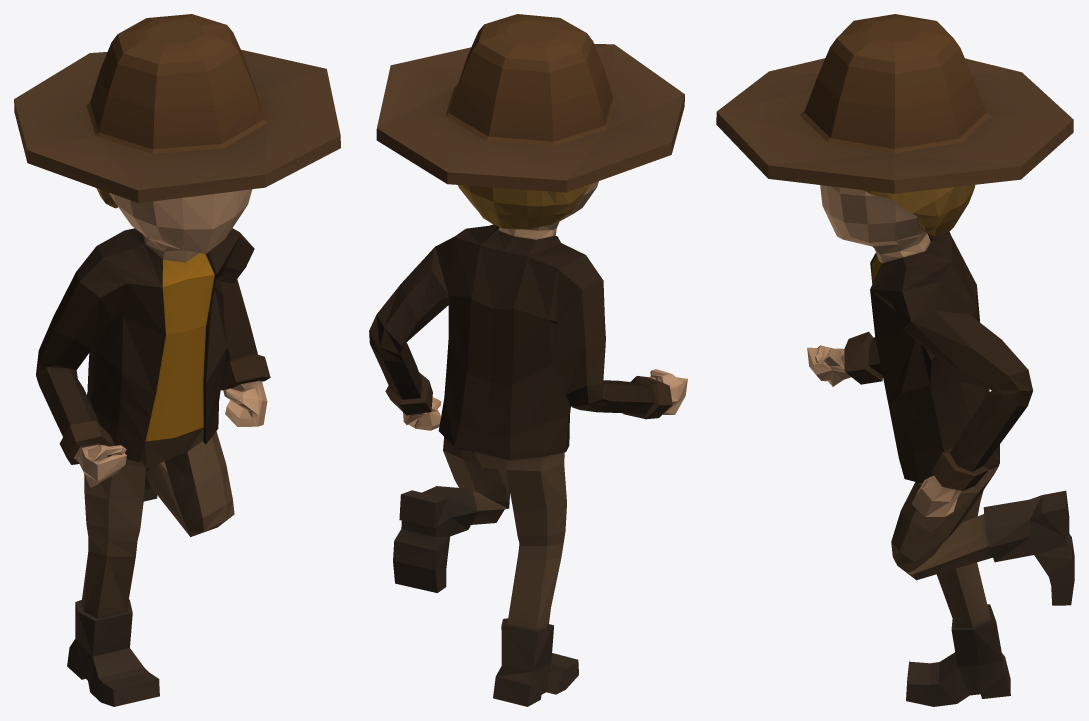
File: run 05.obj
The picture shows the model from 3 angles, left to right: view 1: azimuth 30°, elevation 25°; view 2: azimuth 150°, elevation 25°; view 3: azimuth 270°, elevation 25°; orthographic projection. The views are drawn at different scales.
Parts seen in each view (by area): view 1: Character_Cube; view 2: Character_Cube; view 3: Character_Cube.
Boxes of the visible parts, <box> form: Character_Cube: <box>14,14,340,706</box>; Character_Cube: <box>369,14,687,706</box>; Character_Cube: <box>716,14,1074,706</box>.
Size of the model in its own units: 7.15 by 15.33 by 7.31.
